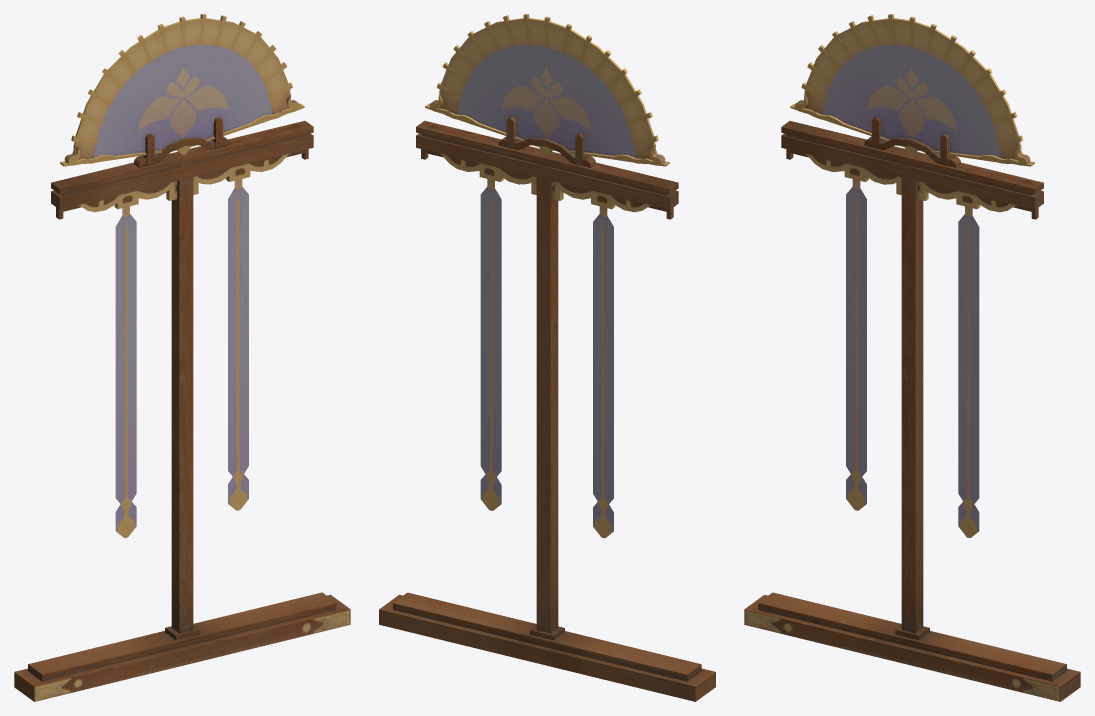
The model's file is Furniture_01_a.FBX.
The picture shows the model from 3 angles, left to right: view 1: azimuth 30°, elevation 25°; view 2: azimuth 150°, elevation 25°; view 3: azimuth 330°, elevation 25°; orthographic projection.
Parts seen in each view (by area): view 1: Furniture_01_a; view 2: Furniture_01_a; view 3: Furniture_01_a.
Part boxes in pixels (bbox=[...]): Furniture_01_a: bbox=[14, 14, 350, 701]; Furniture_01_a: bbox=[379, 14, 715, 701]; Furniture_01_a: bbox=[744, 14, 1080, 701].
Bounding box in the file's own units: 68.56 × 132 × 7.58.
